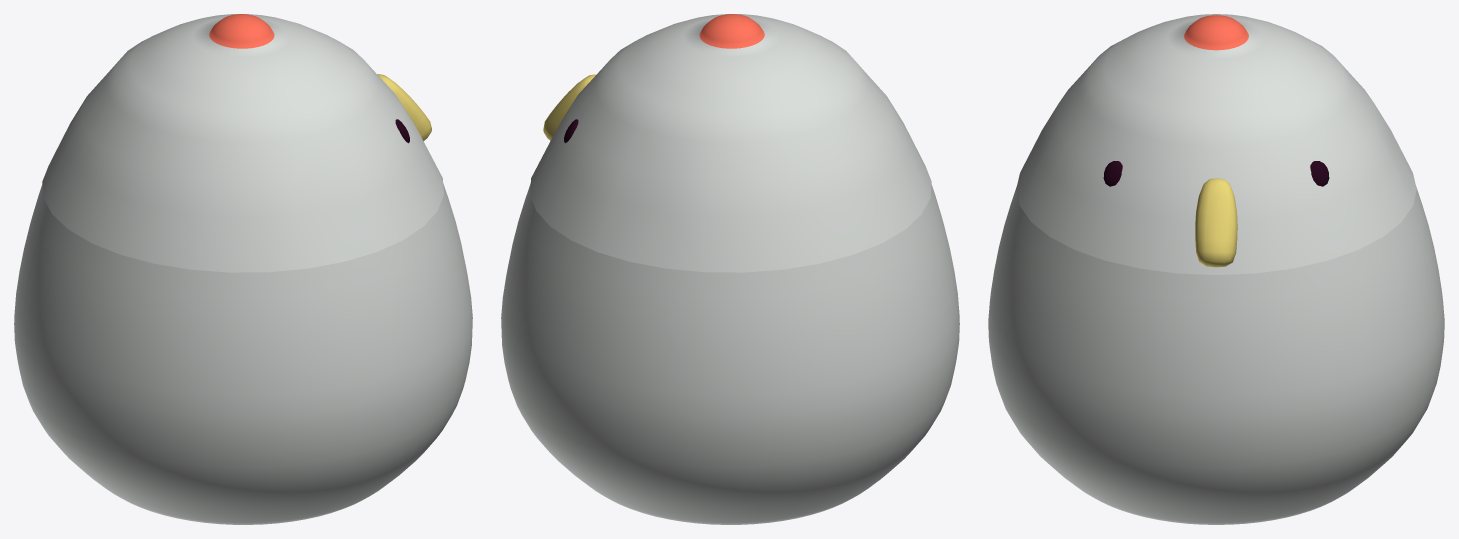
Rendered from CookingTimer.fbx.
The picture shows the model from 3 angles, left to right: view 1: azimuth 30°, elevation 25°; view 2: azimuth 150°, elevation 25°; view 3: azimuth 270°, elevation 25°; orthographic projection.
Visible parts, largest first — view 1: body, head; view 2: body, head; view 3: body, head.
Part boxes in pixels (bbox=[...]): body: bbox=[14, 184, 472, 524]; head: bbox=[42, 14, 443, 272]; body: bbox=[501, 184, 959, 524]; head: bbox=[530, 14, 931, 272]; body: bbox=[988, 186, 1444, 524]; head: bbox=[1016, 14, 1416, 274].
Size of the model in its own units: 21.92 by 23.7 by 21.92.
